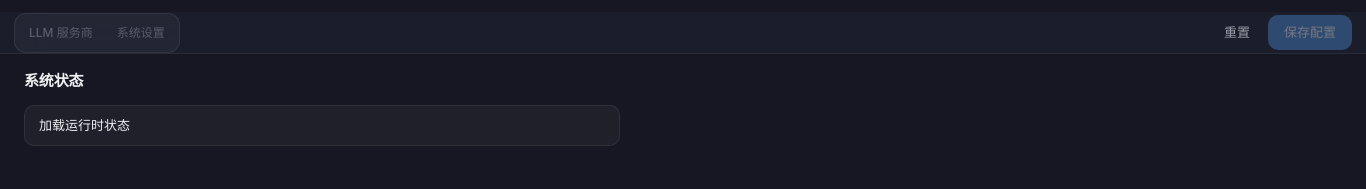
Test: SettingsView — E2E 关键路径 › shows the error message when one status endpoint fails (Promise.all rejects entirely)
The image size is (1366, 189).
Click the button with class "hc-status__trigger": x=85, y=124 [24,104,620,146]
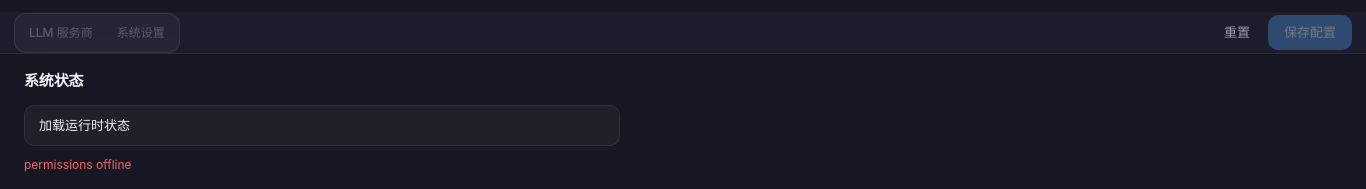
Result: the text "permissions offline" is shown at [24,157,132,172]
